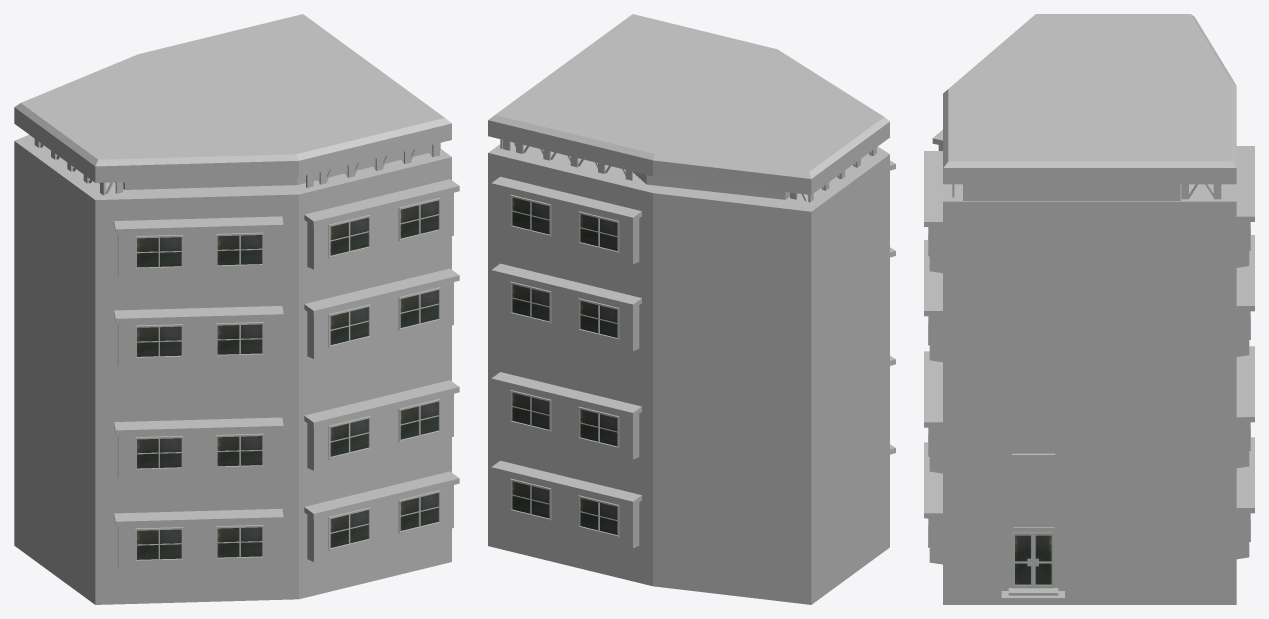
File: bldg_mall_06a.fbx
3 renders of one model, left to right at view 1: azimuth 30°, elevation 25°; view 2: azimuth 150°, elevation 25°; view 3: azimuth 270°, elevation 25°, orthographic. The views are drawn at different scales.
Visible parts, largest first — view 1: bldg_mall_06a; view 2: bldg_mall_06a; view 3: bldg_mall_06a.
Part boxes in pixels (x1,y1,x2,y2): bldg_mall_06a: (14,14,459,604); bldg_mall_06a: (488,14,895,604); bldg_mall_06a: (924,14,1254,604).
Bounding box in the file's own units: 12.03 × 16.35 × 11.1.
